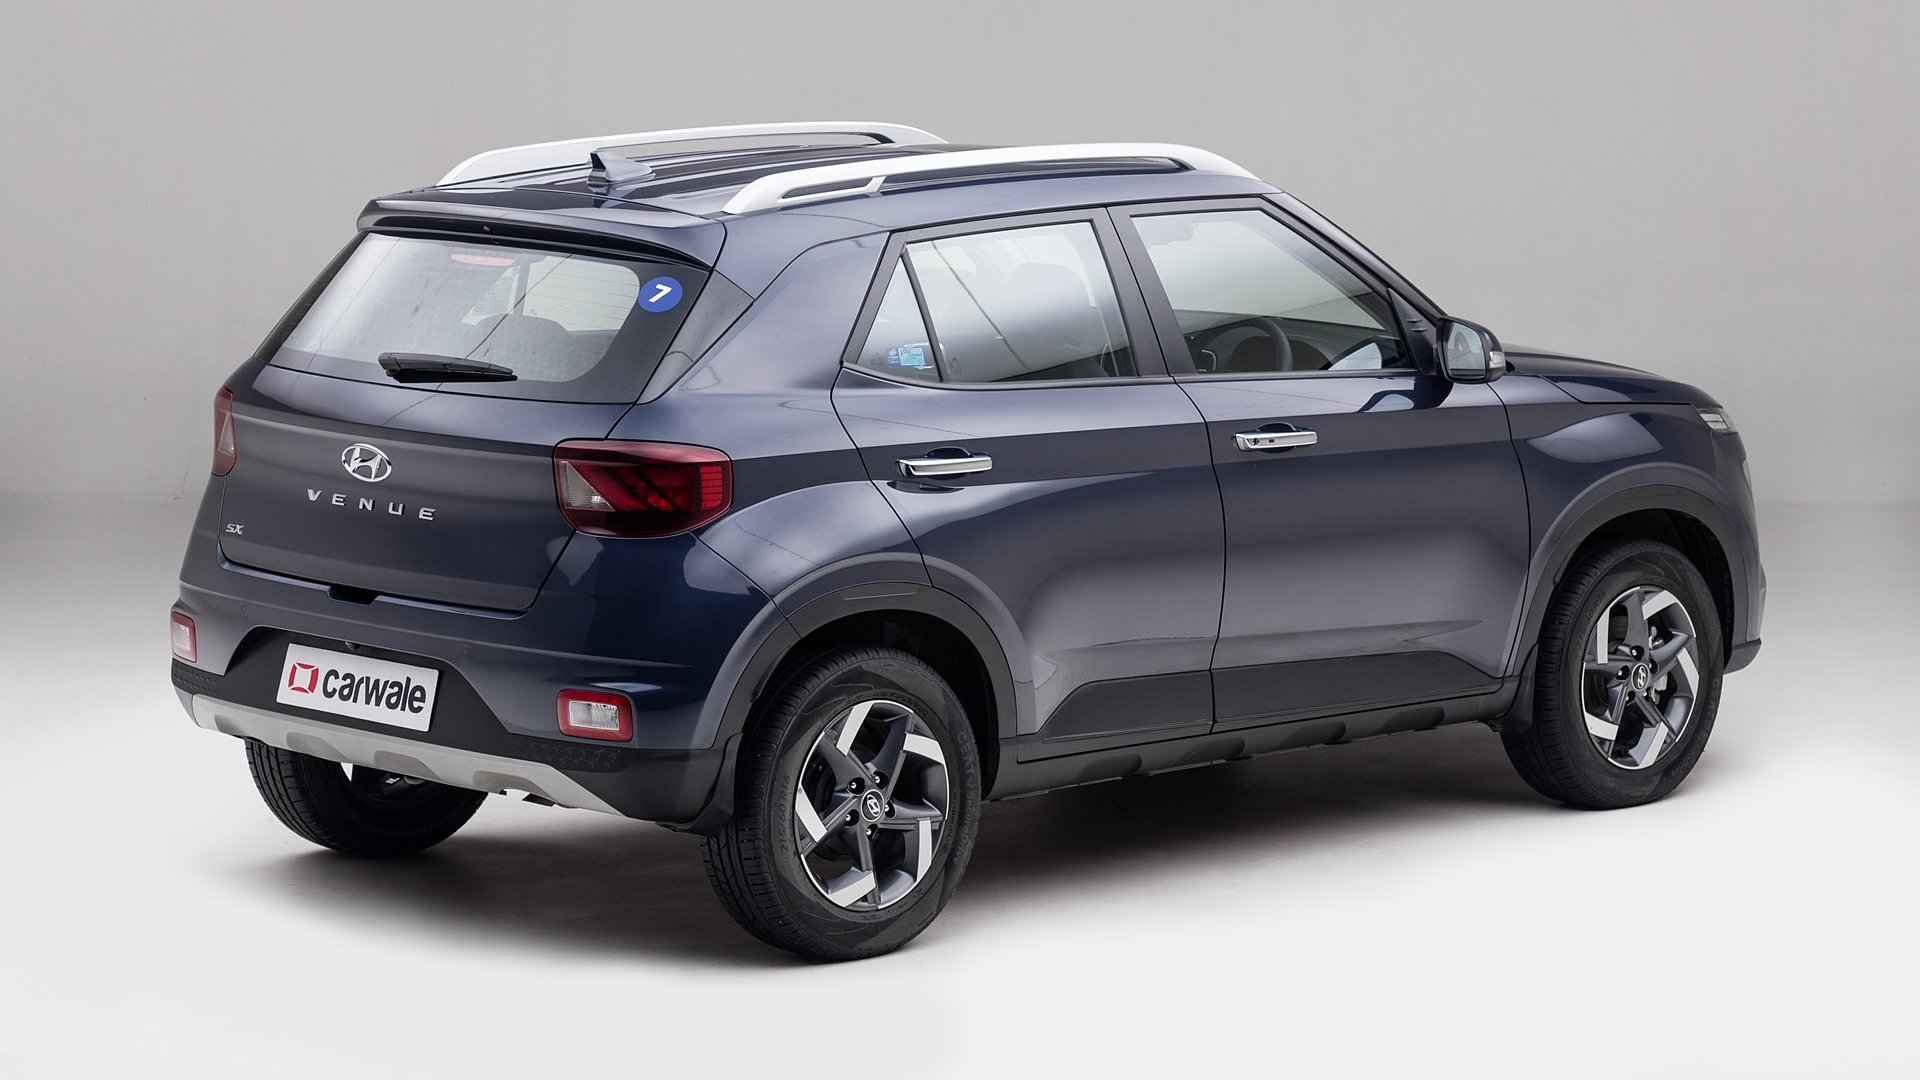car: (173, 116, 1776, 960)
